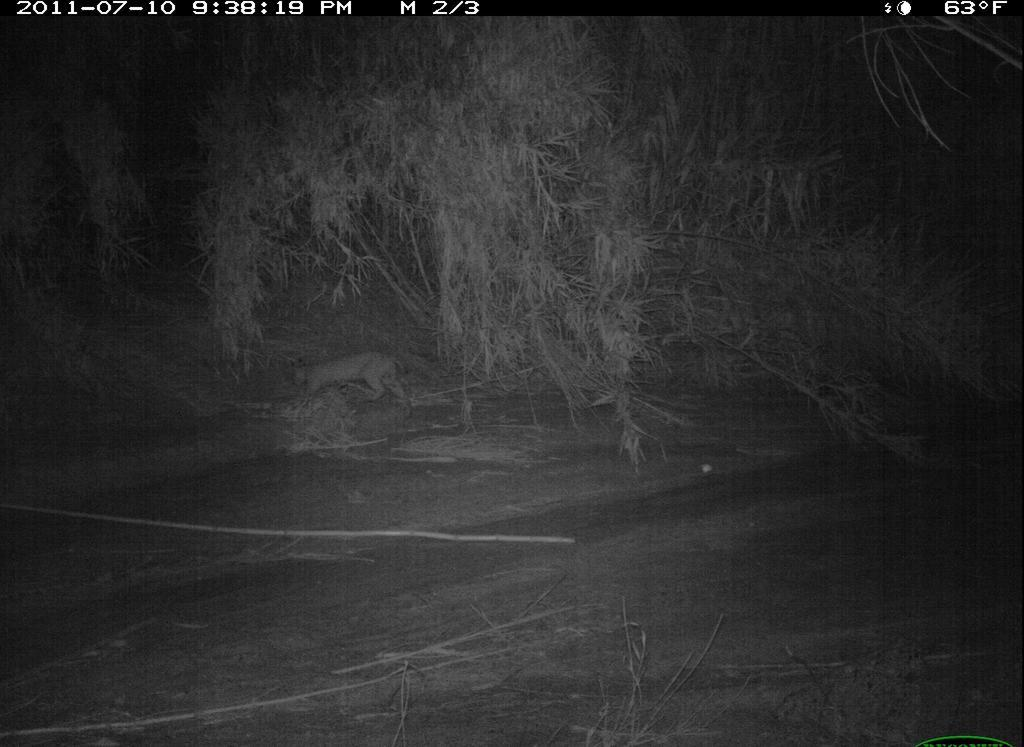bobcat: (289, 345, 420, 423)
